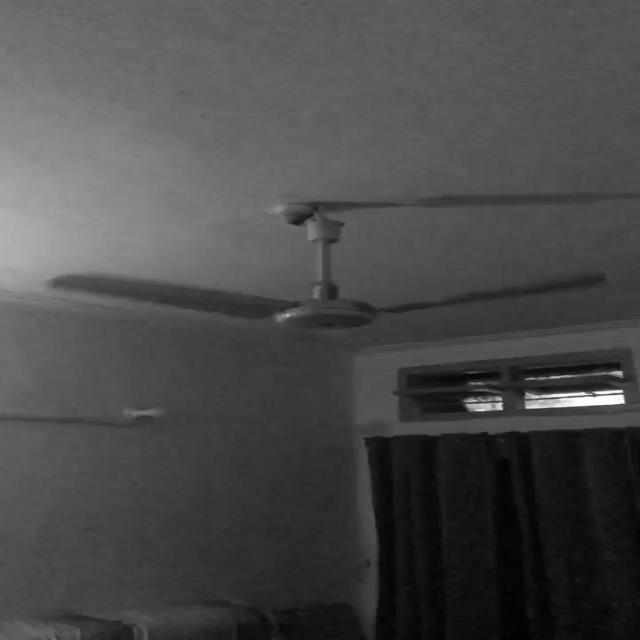fan: (46, 196, 628, 332)
